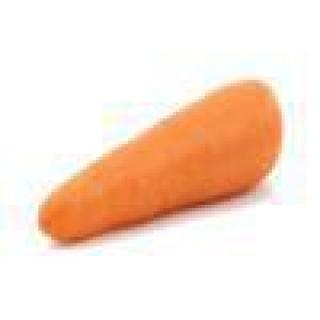Wortel: (27, 71, 289, 257)
